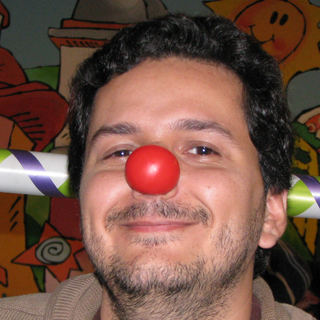eye: (182, 140, 225, 164), (99, 143, 139, 166)
